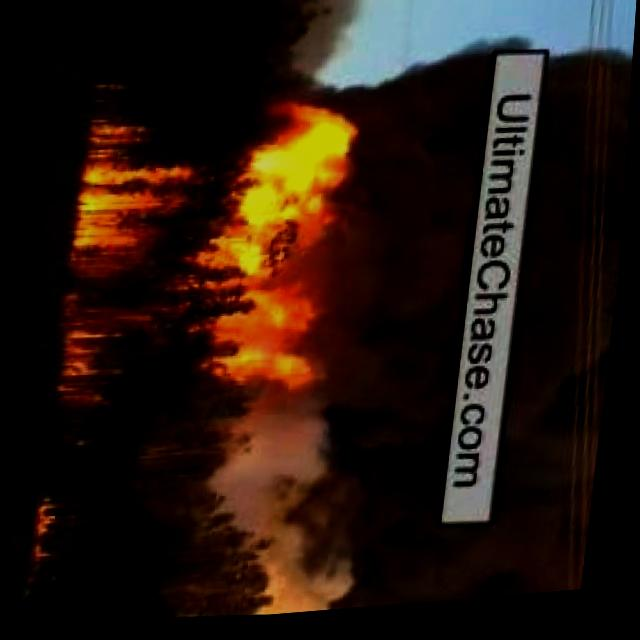helmet: (55, 91, 363, 417), (38, 498, 76, 572)
